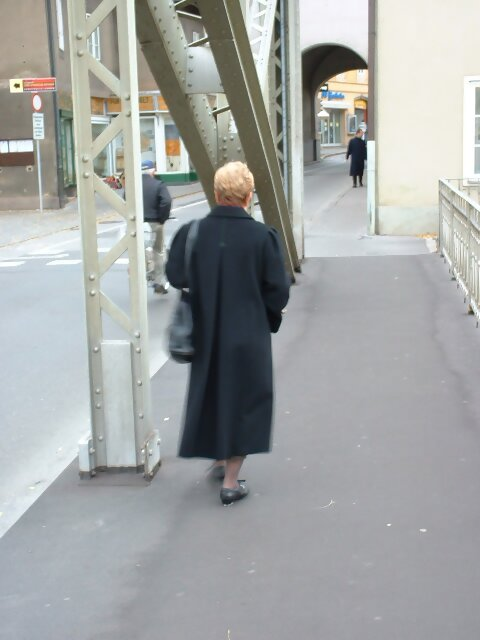person: (174, 159, 289, 503)
